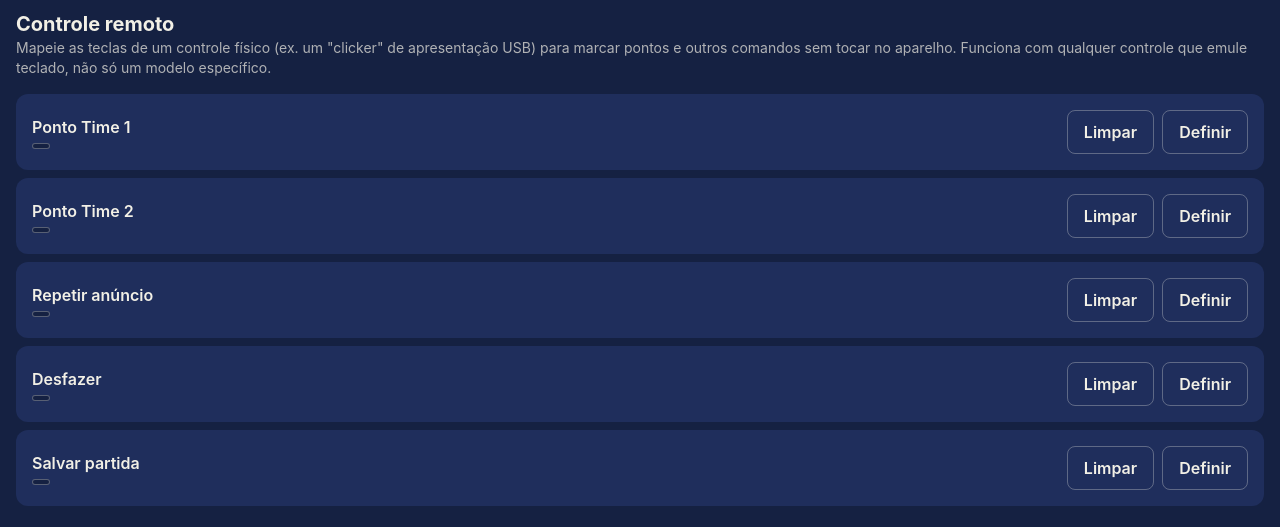
Test: KeyBindingsScreen › Escape cancels the capture without saving anything
Click the button "Definir" in the row of "Ponto Time 2".
click(1205, 216)  # box [1162,194,1248,238]
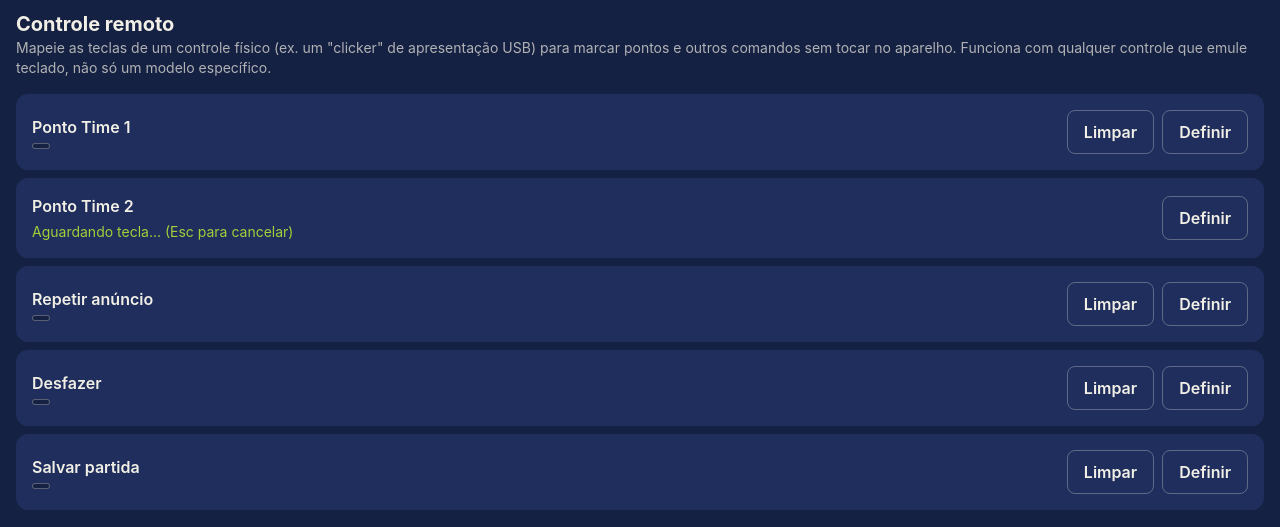
Check: the text "Aguardando tecla... (Esc para cancelar)" is shown, box [32,222,294,242]
Press Escape
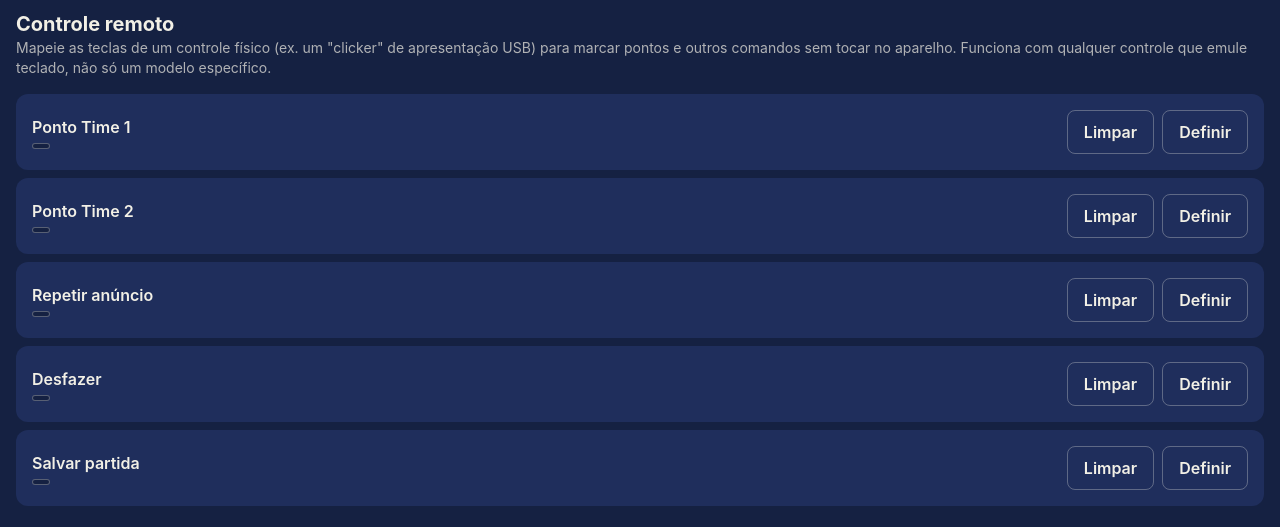
Check: the text "Aguardando tecla... (Esc para cancelar)" is gone
